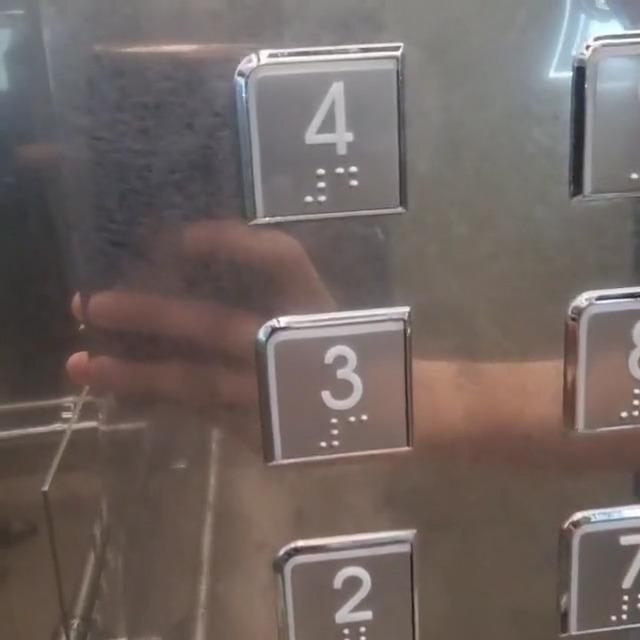button: (232, 48, 407, 224), (254, 308, 422, 446), (277, 545, 415, 640), (548, 504, 628, 628)
